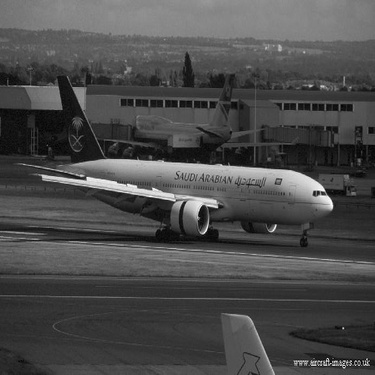airplane: (9, 63, 353, 268), (76, 81, 297, 174)
